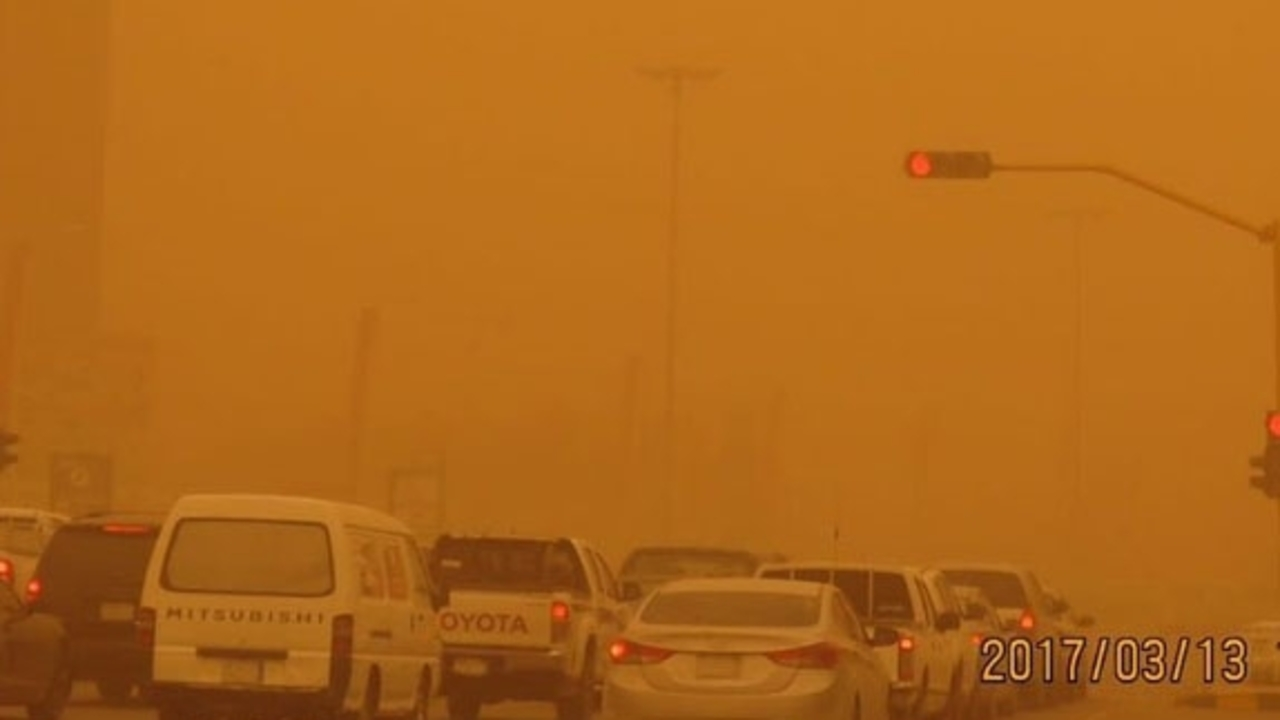car: (135, 490, 443, 714), (608, 579, 882, 718), (422, 534, 624, 716), (758, 554, 973, 719), (22, 518, 162, 703), (958, 558, 1052, 695), (614, 544, 766, 613), (958, 591, 1011, 712), (1050, 584, 1093, 700)
